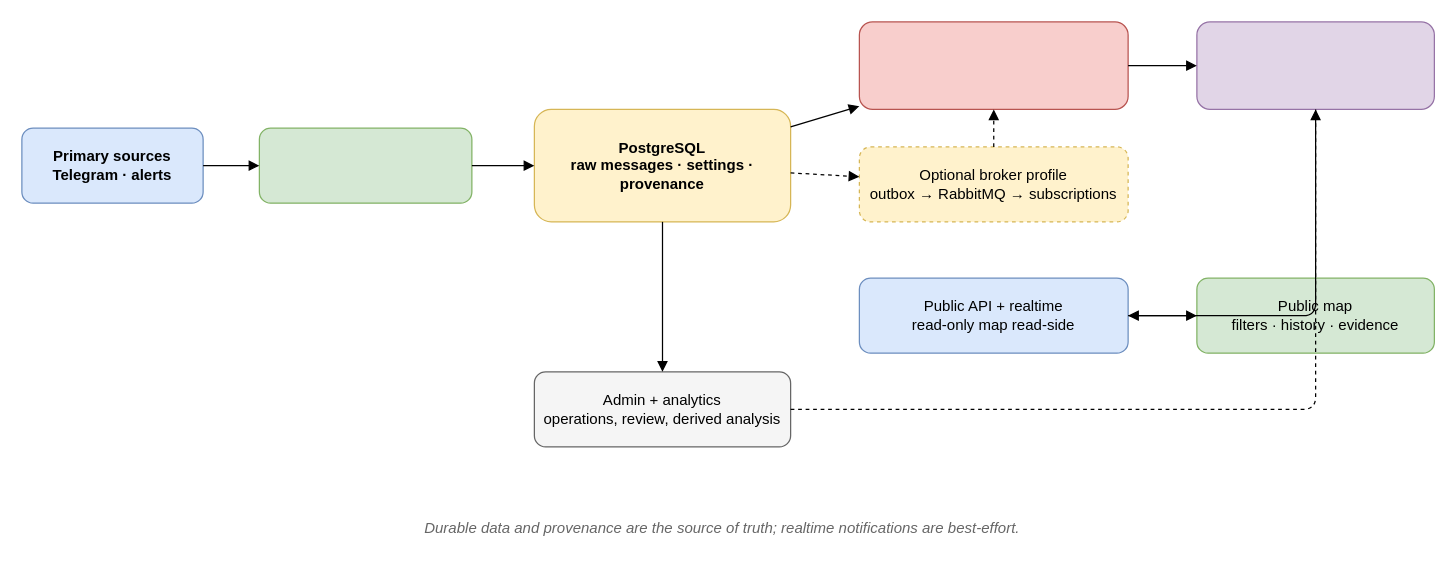
The diagram is 1456 pixels wide and 569 high, and some of its shapes have lost their labels. Here are the shapes that lost their labels. From the top down, the box of each, then its label:
(858, 21, 1128, 109): Processing legacy processor OR durable event stages
(1196, 21, 1434, 109): Tracks · alerts · incidents revisions + decision provenance
(258, 127, 472, 203): Collectors source identity + checkpoint
